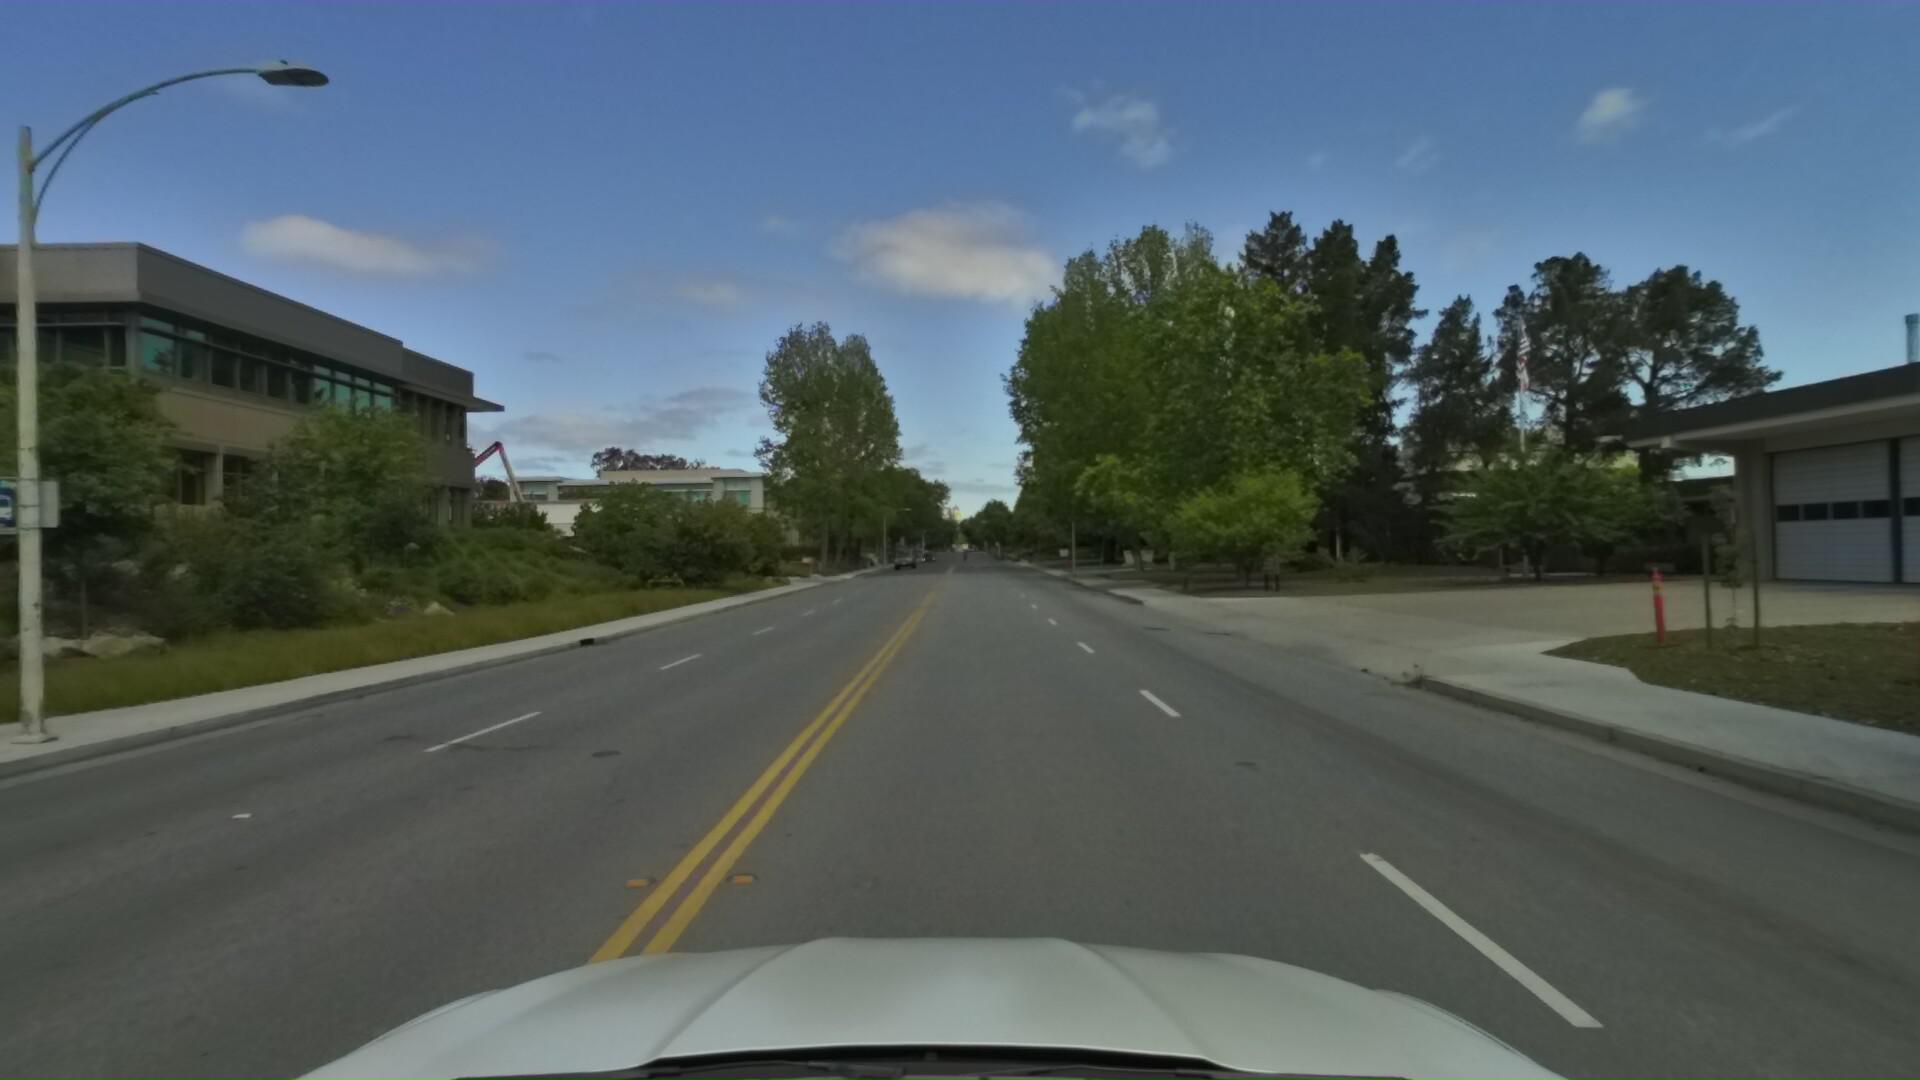other_vehicle: (433, 425, 553, 575)
